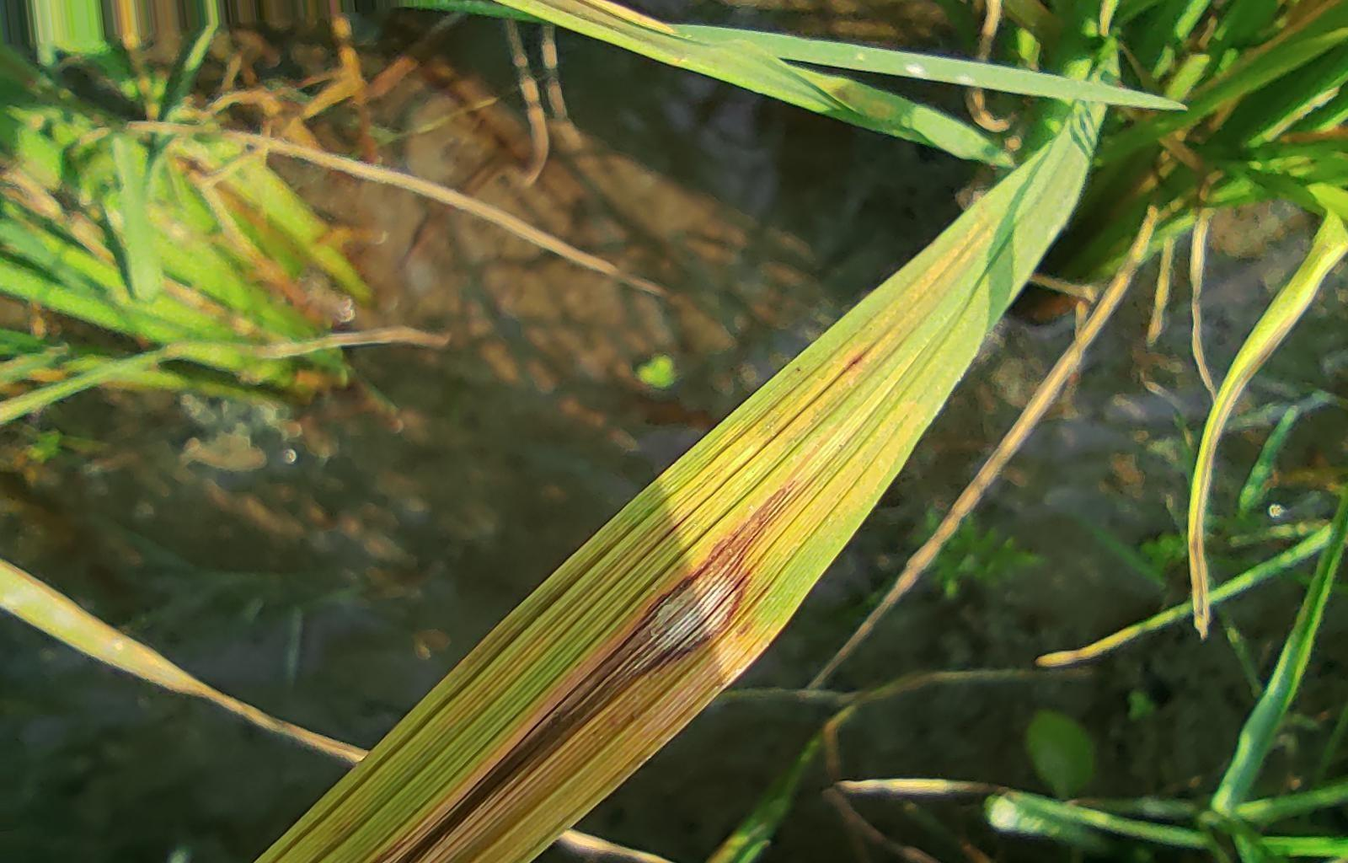LEAF: (256, 103, 1104, 862)
LEAF BLAST: (396, 482, 795, 862)
